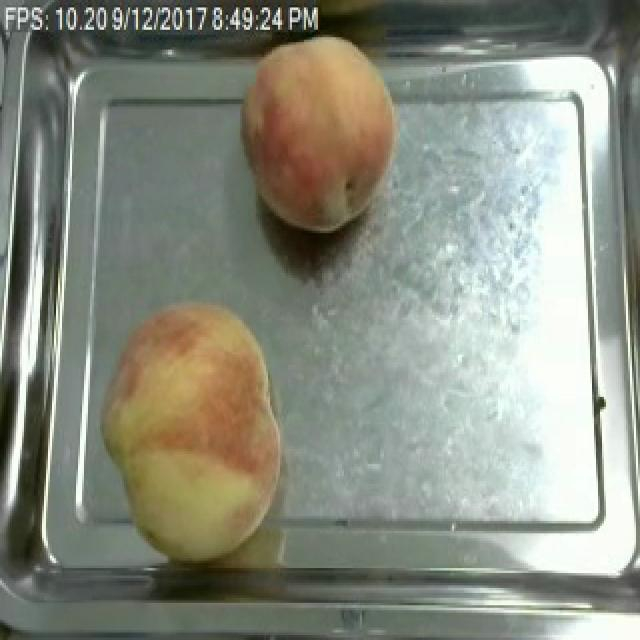Fruit: (80, 290, 288, 566), (234, 24, 412, 240)
